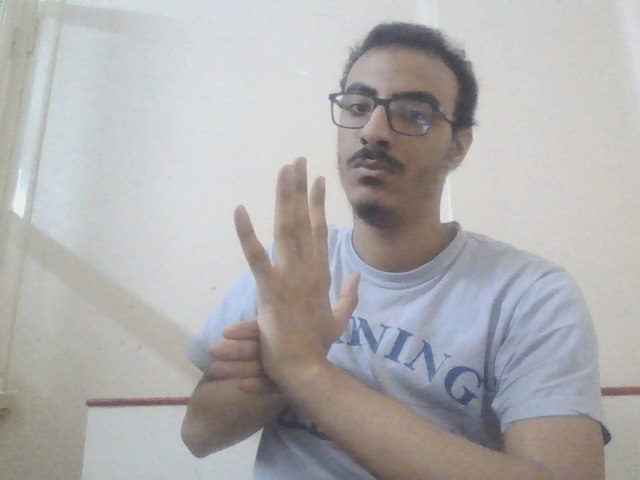Movie: (201, 157, 372, 409)
